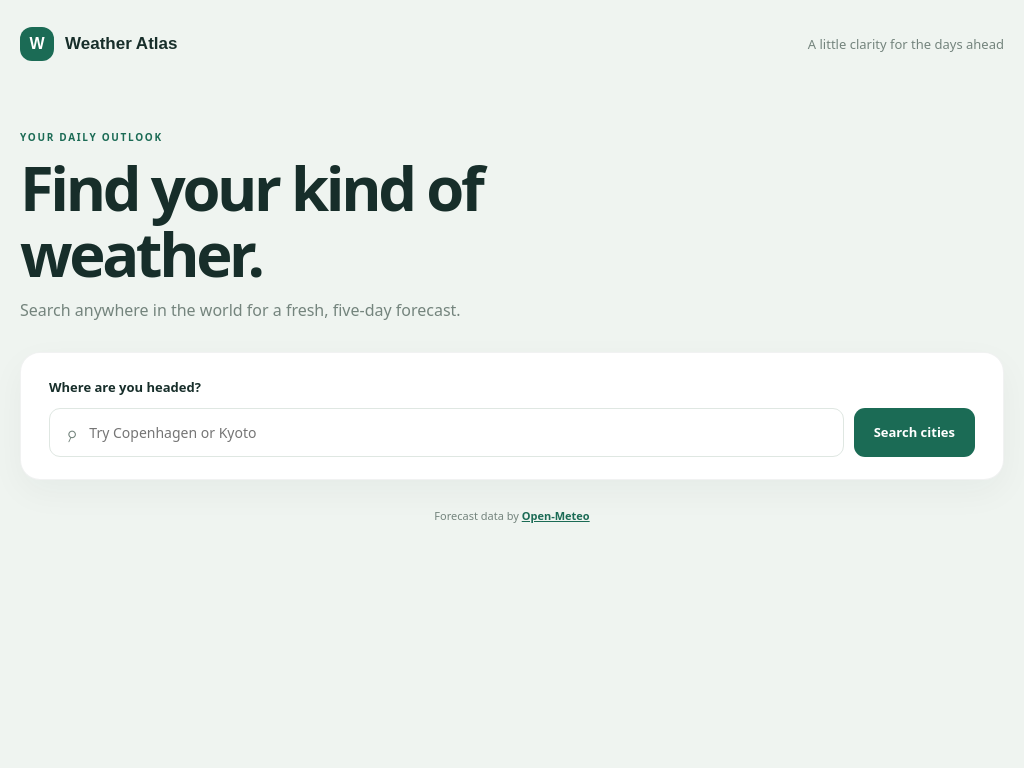
Test: Weather Atlas › searches for a city and displays its forecast
This screenshot has width=1024, height=768.
In the field labelled "Where are you headed?": x=457, y=432 [87,422,828,443], type "Copenhagen"
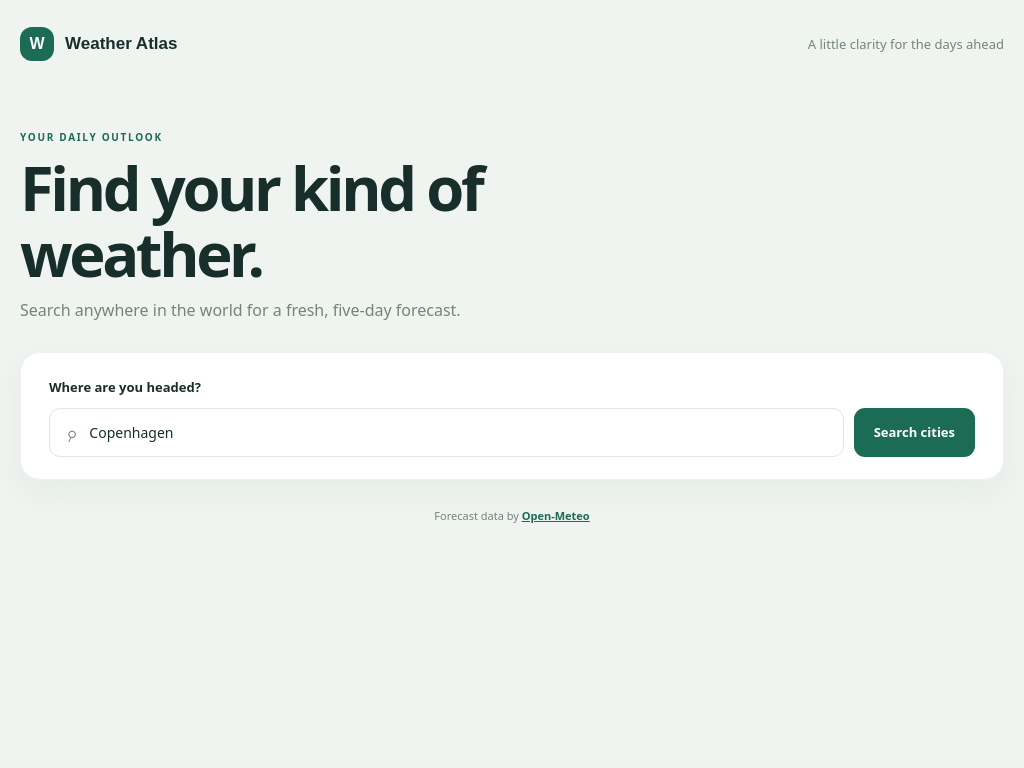
Click the button "Search cities": x=914, y=432 [854,408,975,457]
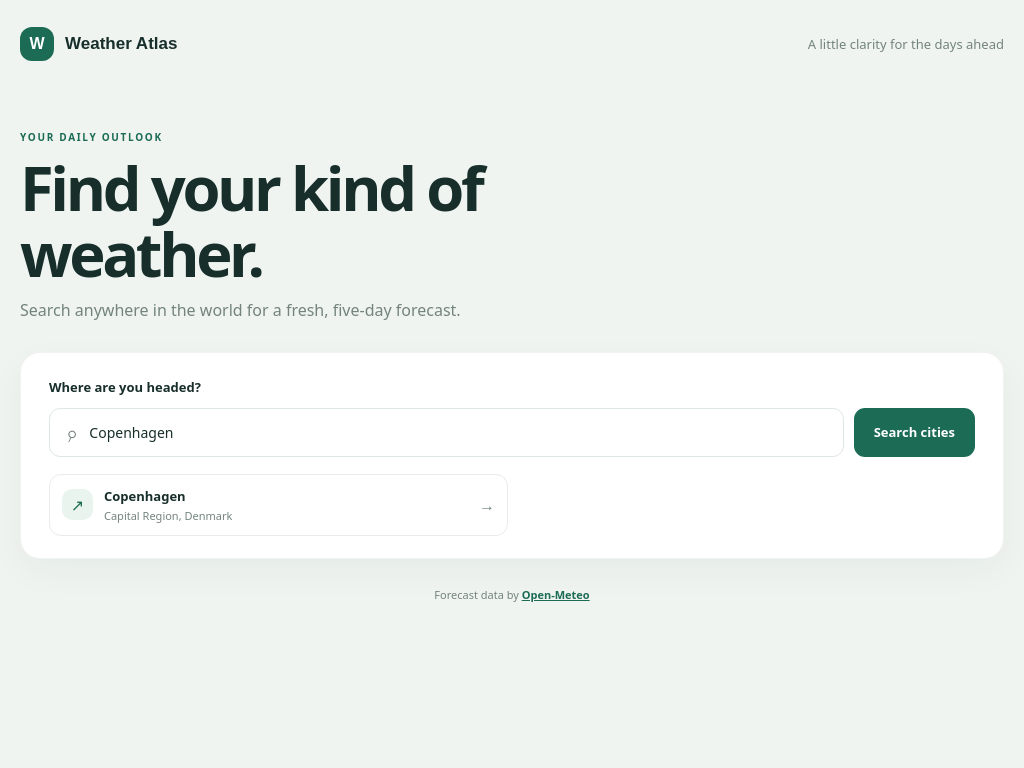
Click the button "↗ Copenhagen Capital Region, Denmark →": x=78, y=505 [49,474,508,536]
(page scrolled)
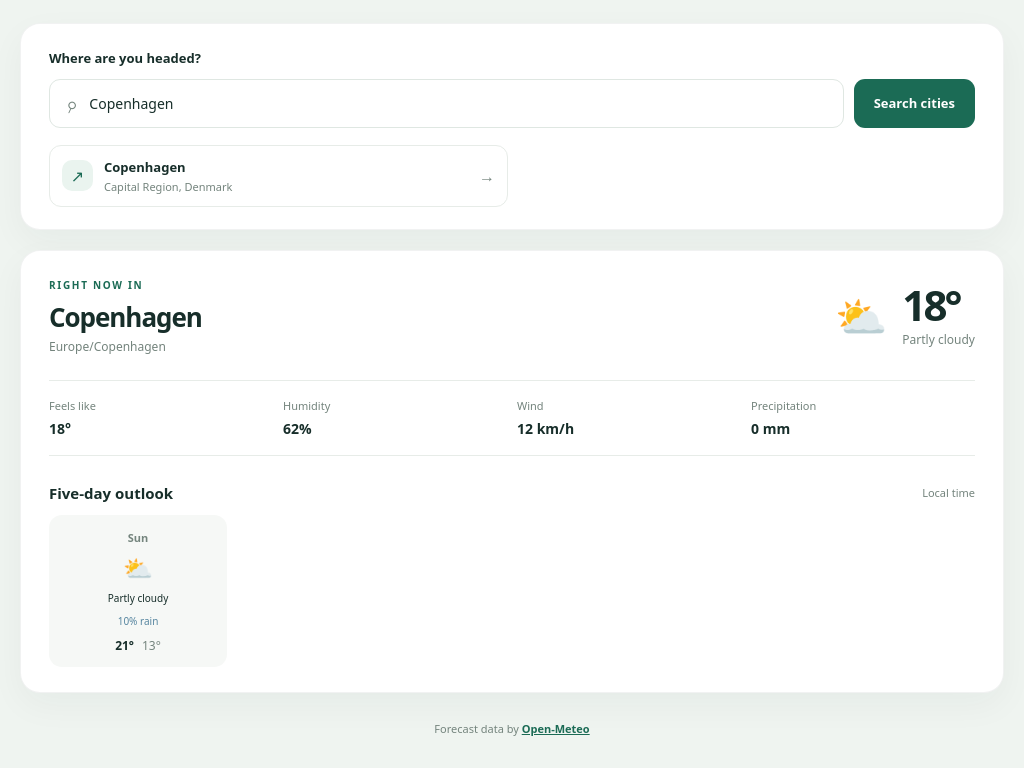
Expected: the heading "Copenhagen" is shown, [49,299,202,335]
Expected: the heading "Five-day outlook" is shown, [49,483,173,503]
Expected: the text "62%" is shown, [283,419,312,438]
